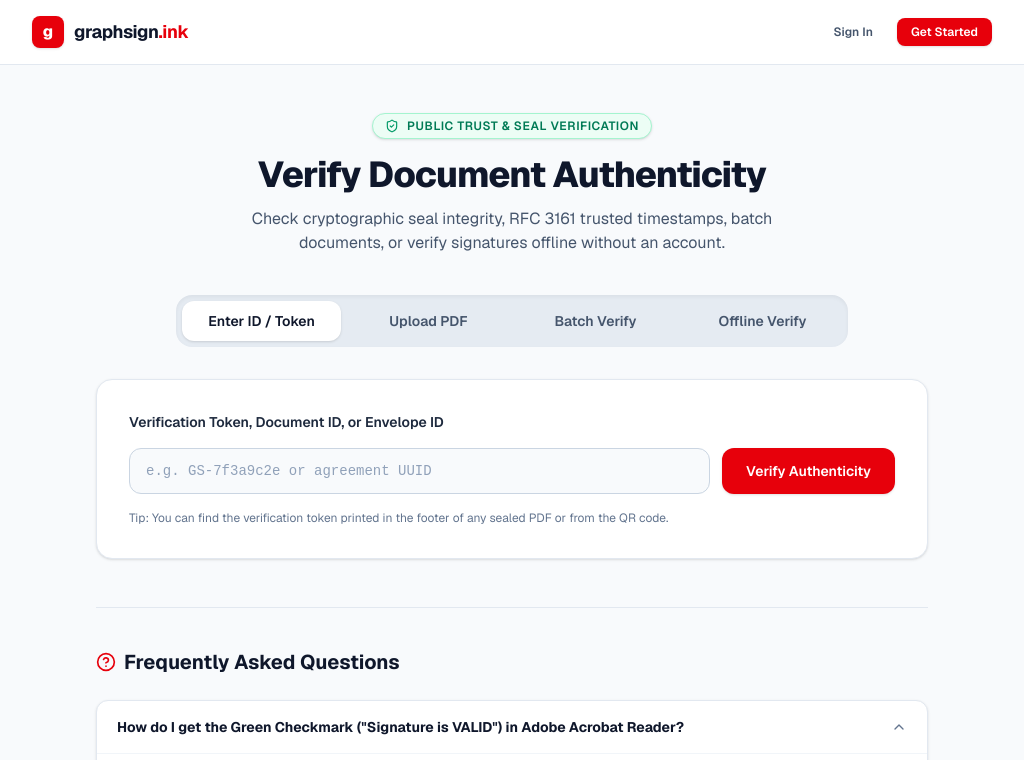
Test case: PublicVerifyPage Component Tests (INK-135 to INK-139) › switches to Offline Verify tab and allows document selection (INK-137)
Click the button "Offline Verify" at x=762, y=321, box x1=683 y1=301 x2=842 y2=341
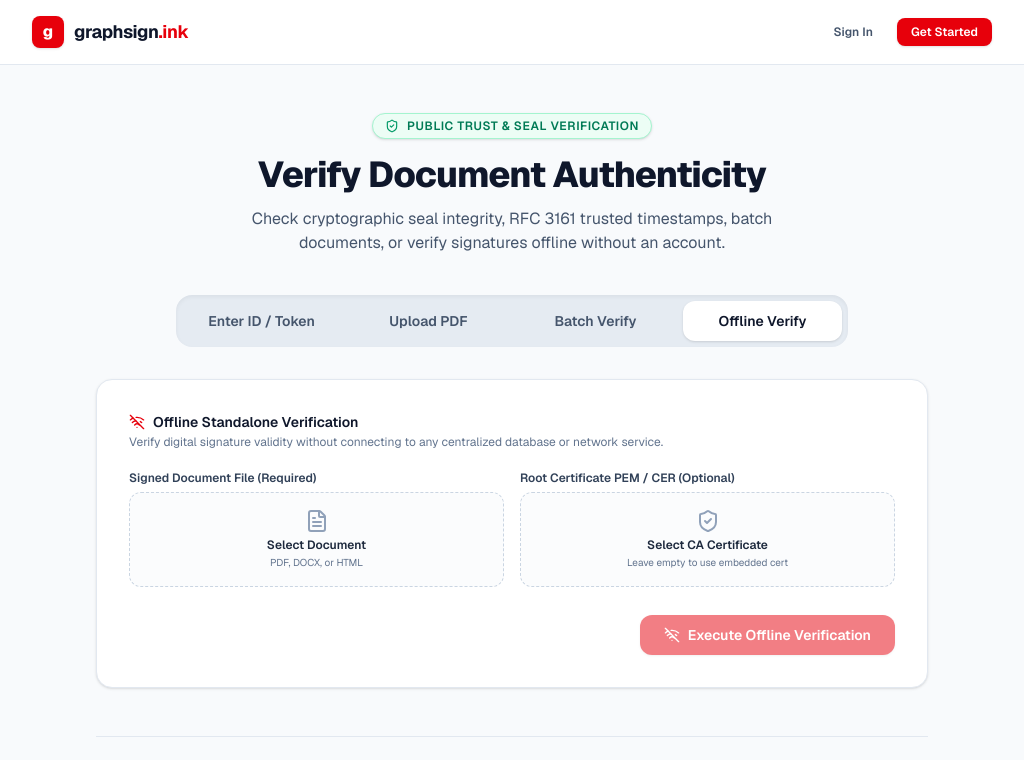
Expected: the heading "Offline Standalone Verification" is shown, x1=129 y1=413 x2=358 y2=431
Expected: the text "Signed Document File (Required)" is shown, x1=129 y1=470 x2=316 y2=486
Expected: the text "Root Certificate PEM / CER (Optional)" is shown, x1=520 y1=470 x2=735 y2=486
